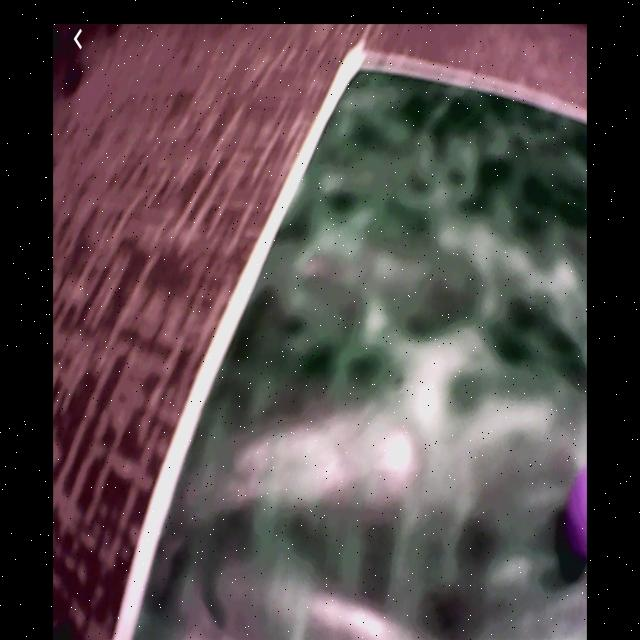ball: (569, 471, 589, 564)
